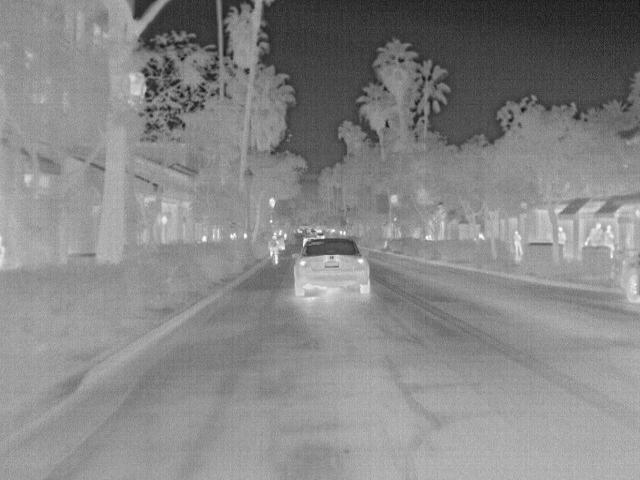car: (291, 235, 374, 297), (618, 256, 640, 301)
person: (603, 223, 621, 255), (586, 223, 606, 249), (267, 234, 282, 266), (512, 228, 525, 260), (555, 222, 568, 248)
